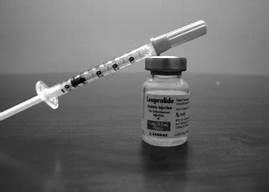Syringe: (2, 15, 211, 125), (142, 55, 193, 151)
